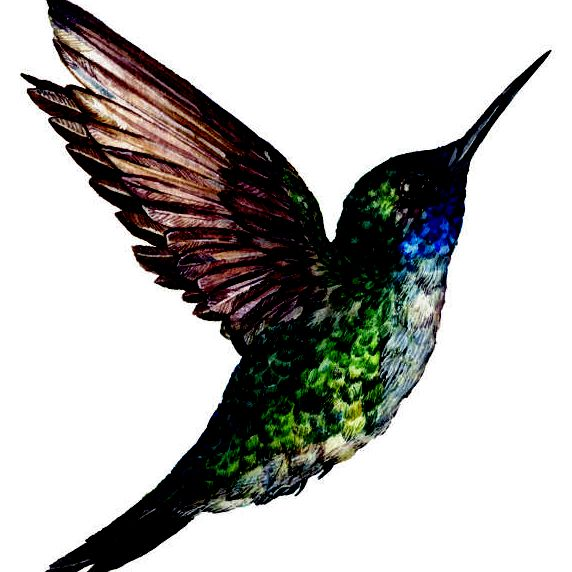Bird: (18, 1, 553, 572)
